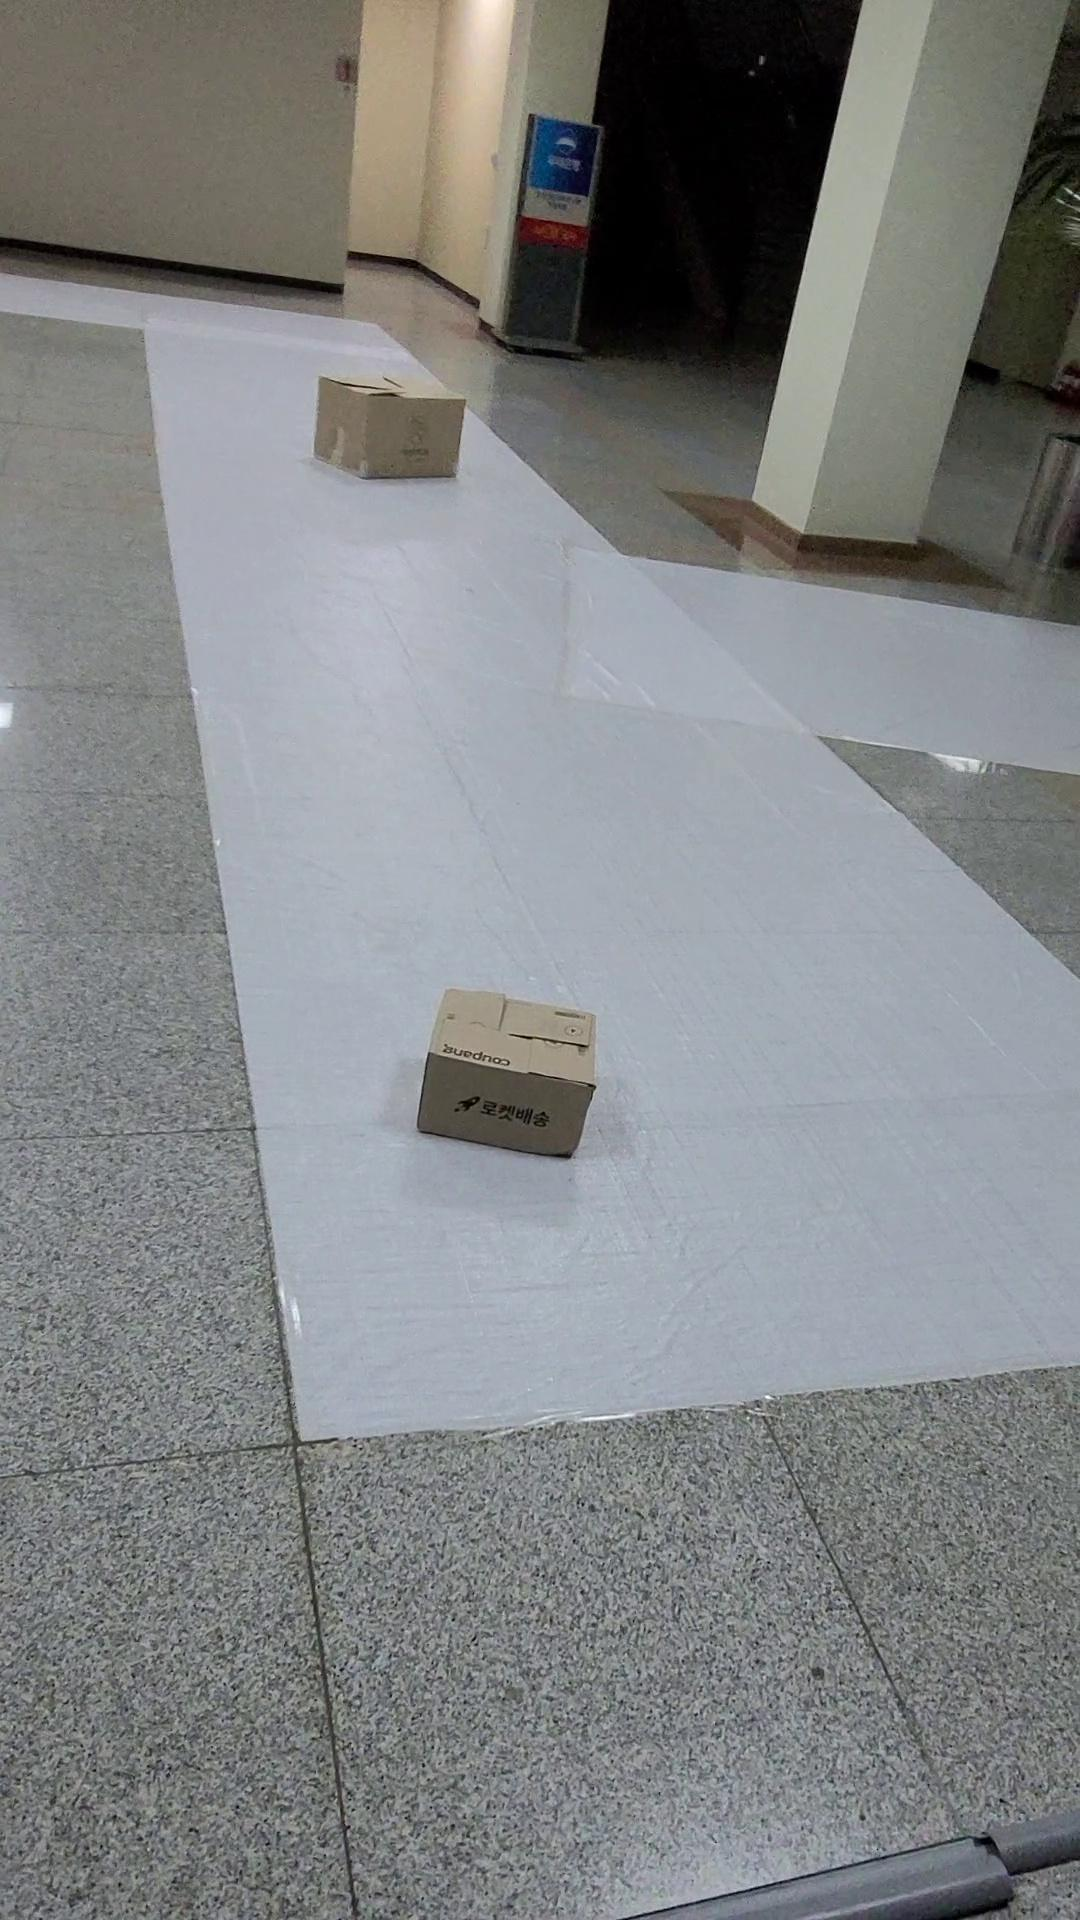Box: (373, 948, 640, 1193), (266, 343, 518, 518)
